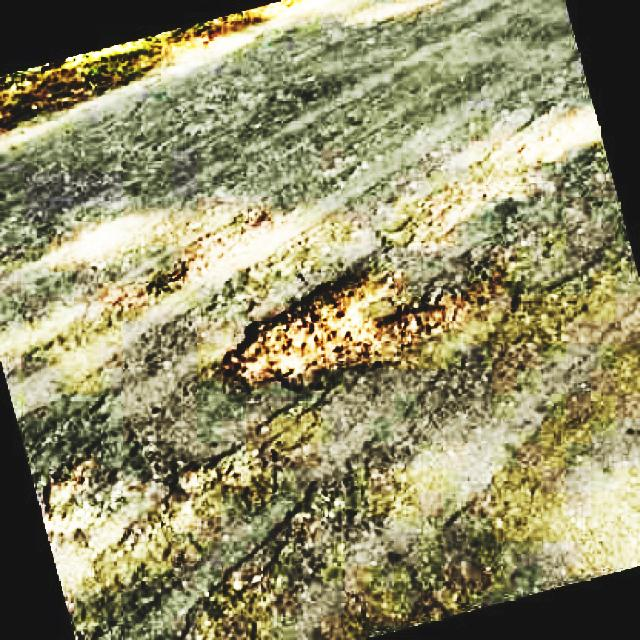pothole: (219, 269, 486, 389), (176, 437, 270, 498), (39, 454, 103, 511)
